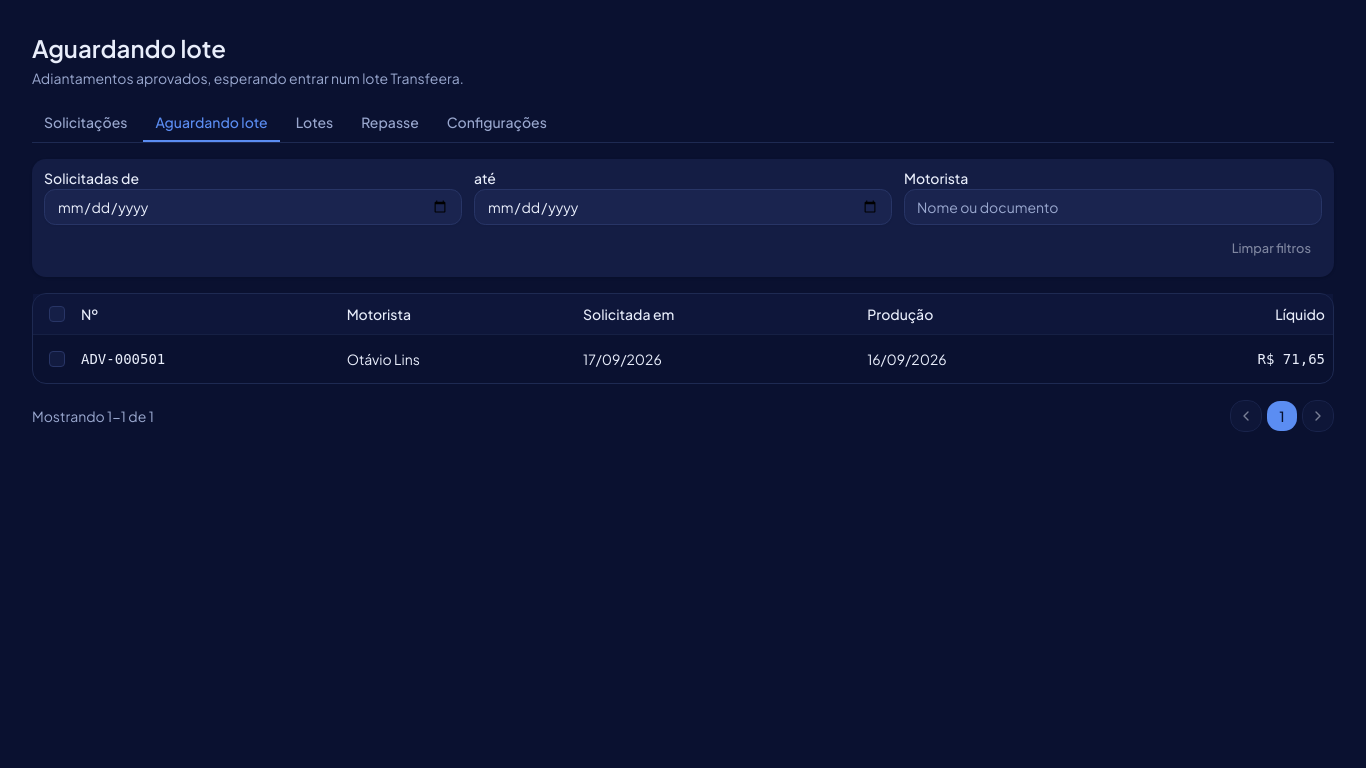
Test case: AdiantamentosPagamentosPage › 7.6.2: pendências aparecem com o motivo traduzido (STATUS_PAGA → rótulo)
The width and height of the screenshot is (1366, 768).
Click the checkbox named "Selecionar ADV-000501".
click(57, 358)  # box x1=49 y1=350 x2=65 y2=366
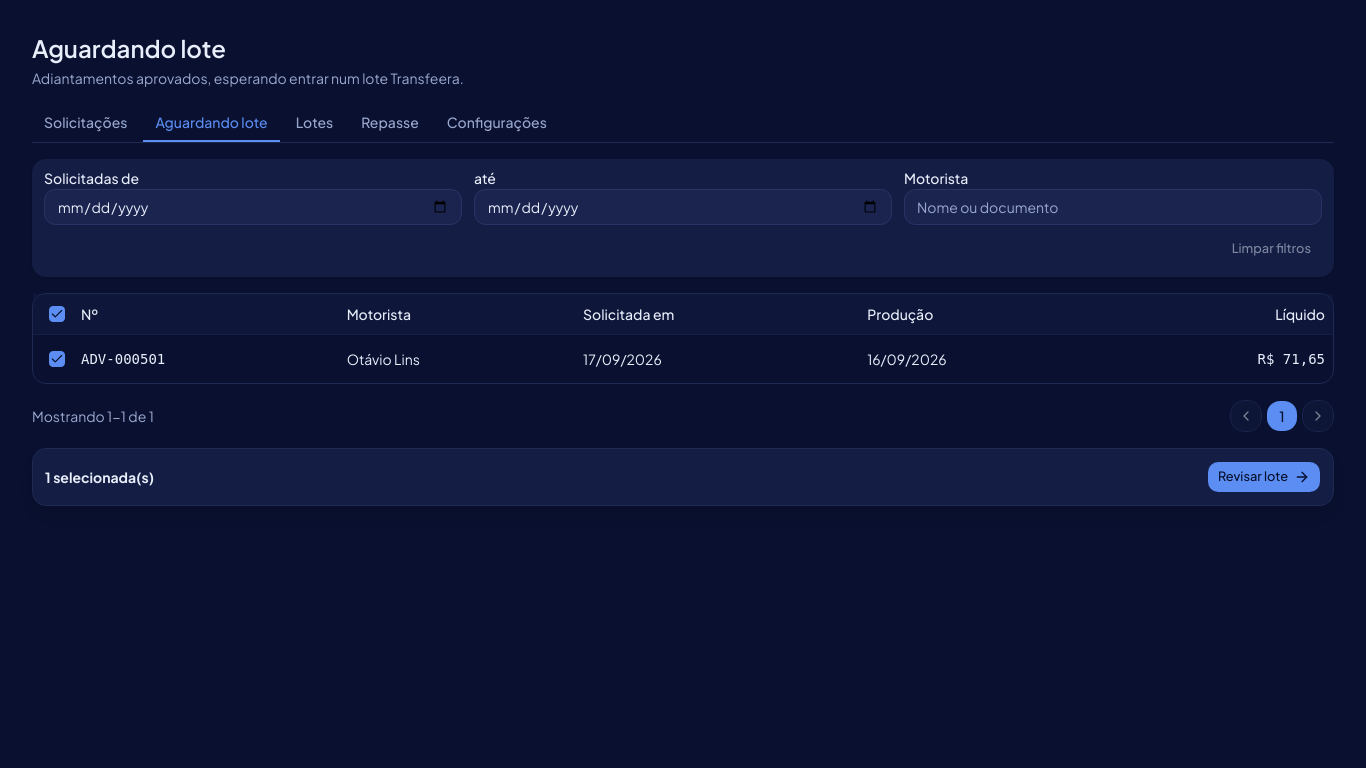
Click the button "Revisar lote".
click(1264, 476)  # box x1=1207 y1=460 x2=1321 y2=492
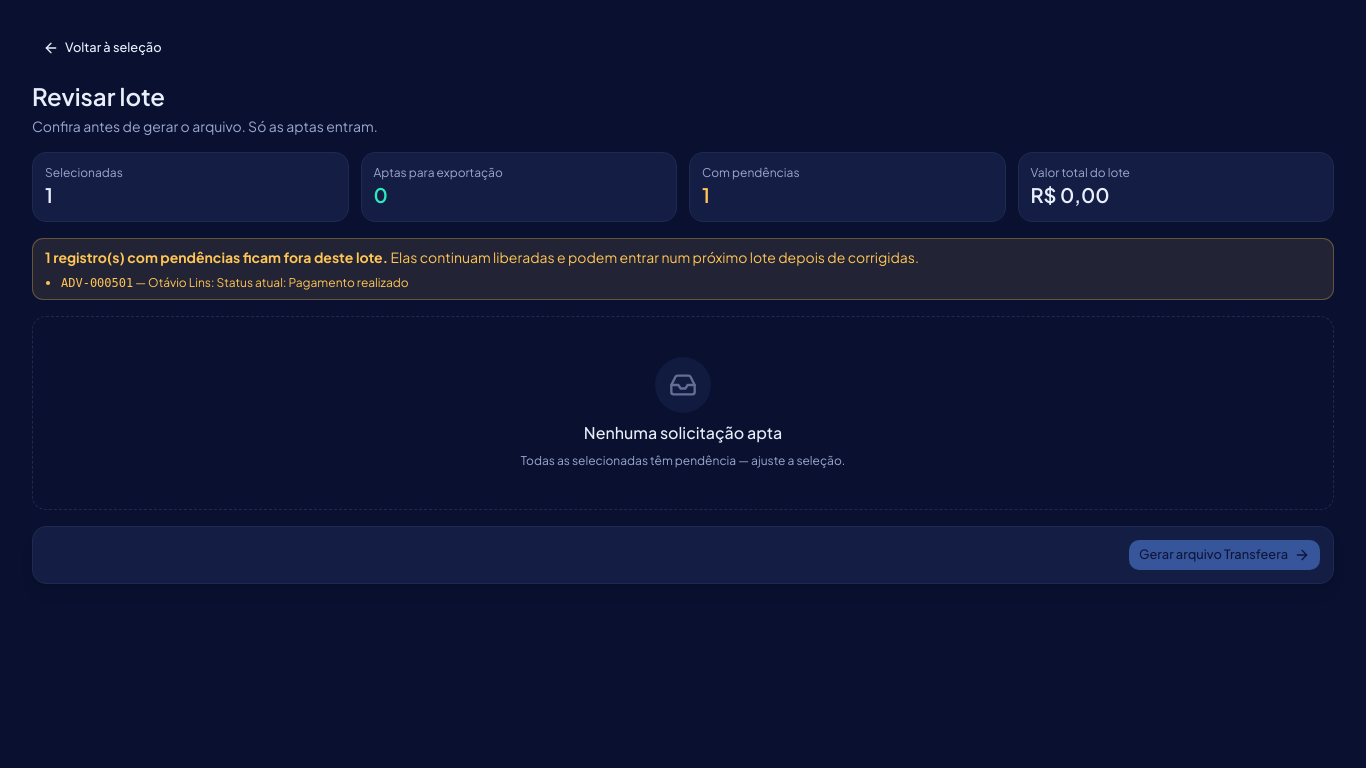
expect the list item "ADV-000501 — Otávio Lins: Status atual: Pagamento realizado" is shown: met, box x1=61 y1=275 x2=409 y2=290
expect the text "Nenhuma solicitação apta" is shown: met, box x1=584 y1=421 x2=782 y2=445
